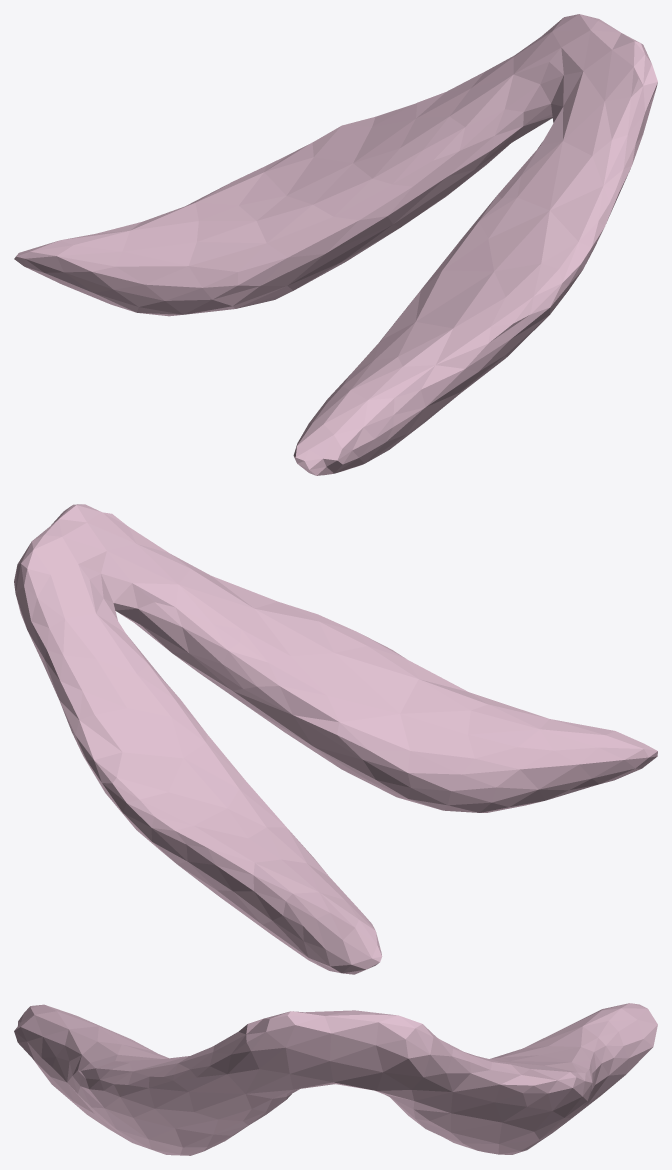
The picture shows the model from 3 angles, top to bottom: view 1: azimuth 30°, elevation 25°; view 2: azimuth 150°, elevation 25°; view 3: azimuth 270°, elevation 25°; orthographic projection. The views are drawn at different scales.
Parts seen in each view (by area): view 1: 839.obj; view 2: 839.obj; view 3: 839.obj.
Part boxes in pixels (<box>): 839.obj: <box>14,14,657,475</box>; 839.obj: <box>14,504,657,974</box>; 839.obj: <box>14,1003,657,1155</box>.
Size of the model in its own units: 1331 by 733 by 1425.
